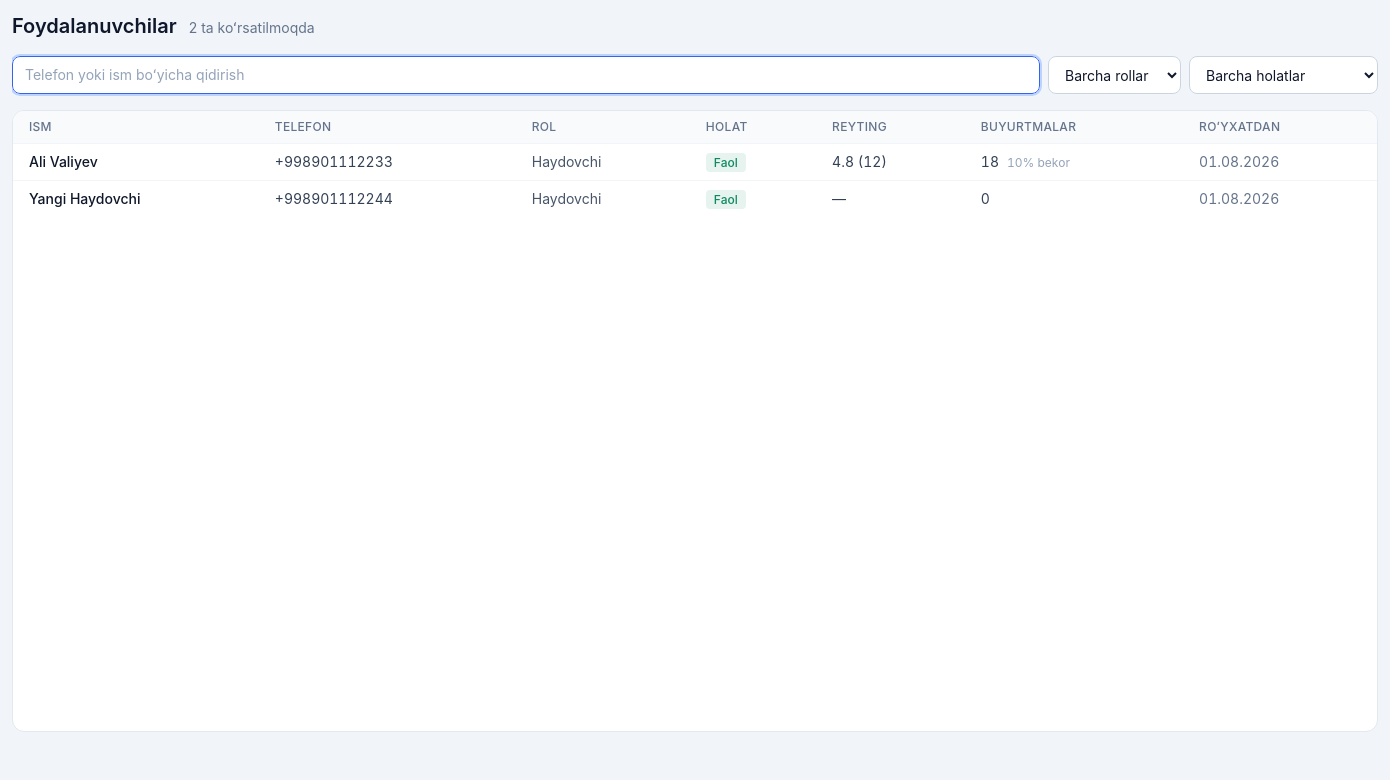
Test: UsersPage › ★ SABABSIZ BLOKLAB BOʻLMAYDI
This screenshot has width=1390, height=780.
Click the text "Ali Valiyev" at [63, 162], box [13, 144, 259, 180]
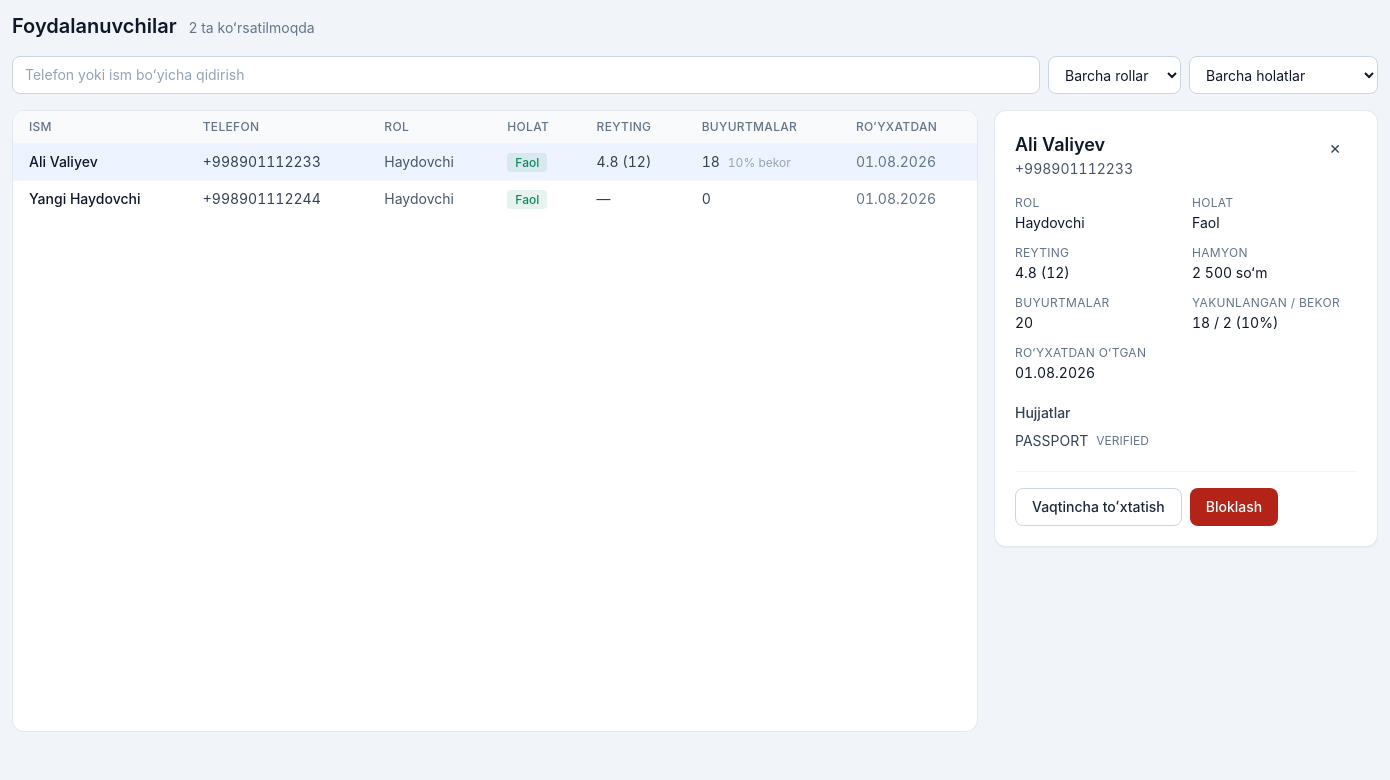
Click the button "Bloklash" at [1234, 507], box [1190, 488, 1278, 526]
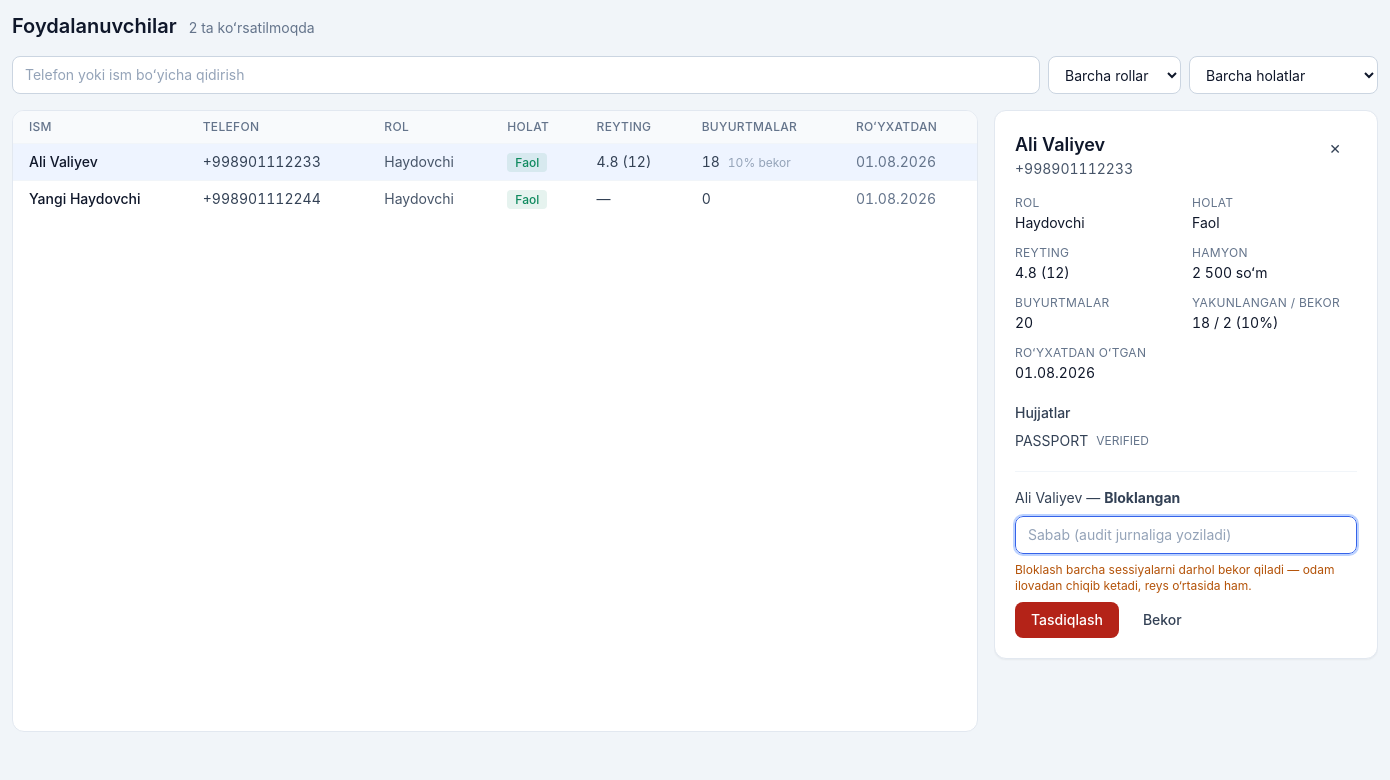
Click the button "Tasdiqlash" at [1067, 620], box [1015, 602, 1119, 638]
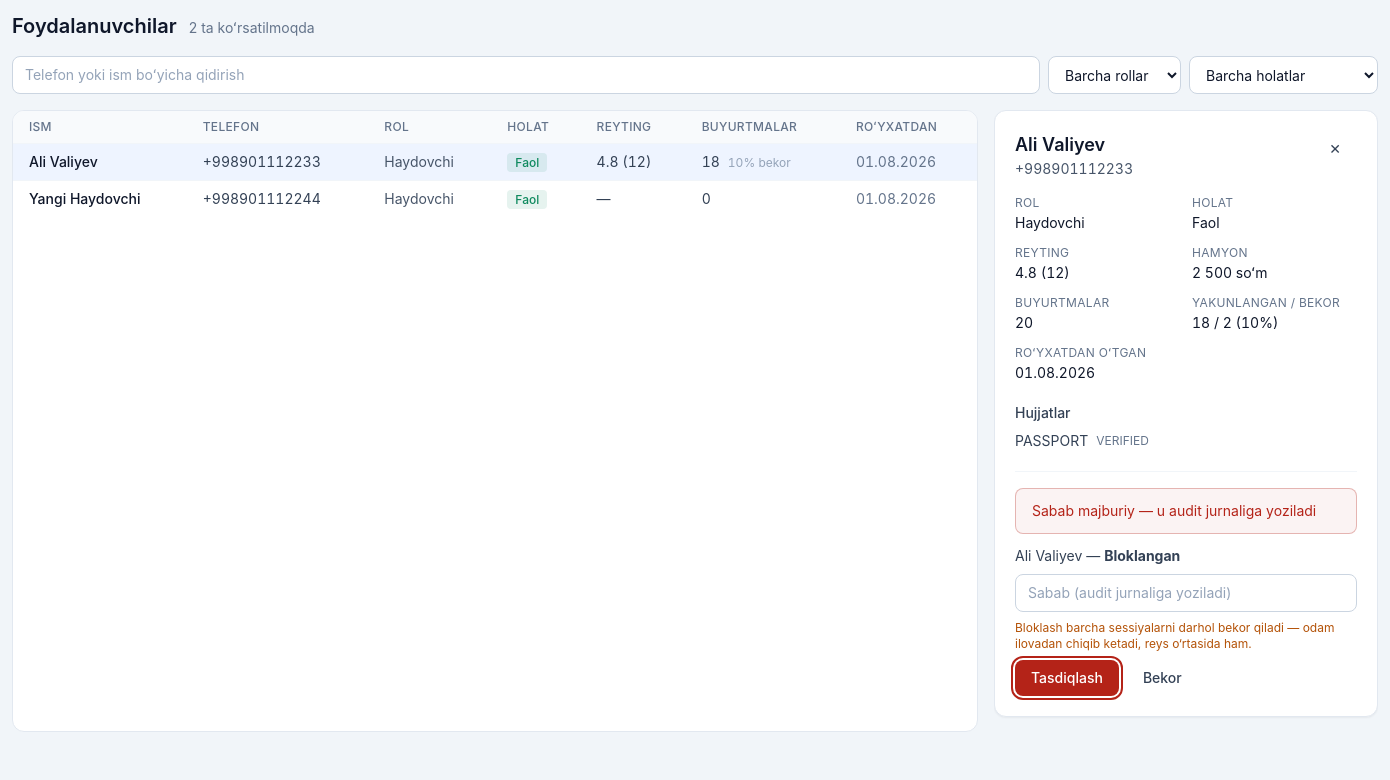
expect the message shows "Sabab majburiy": met, box [1032, 502, 1316, 519]
